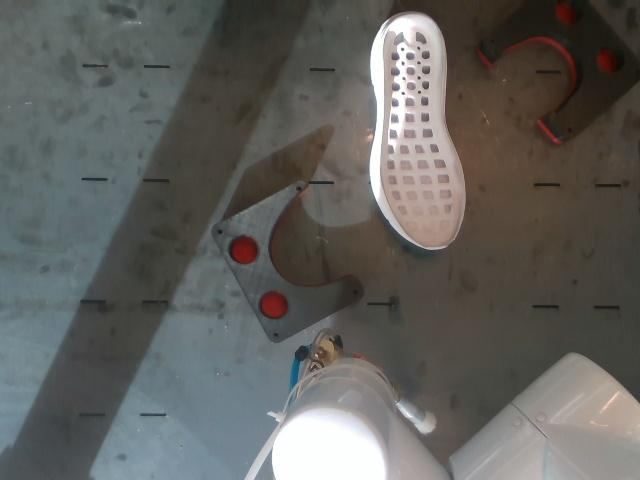shoes: (380, 15, 464, 248)
